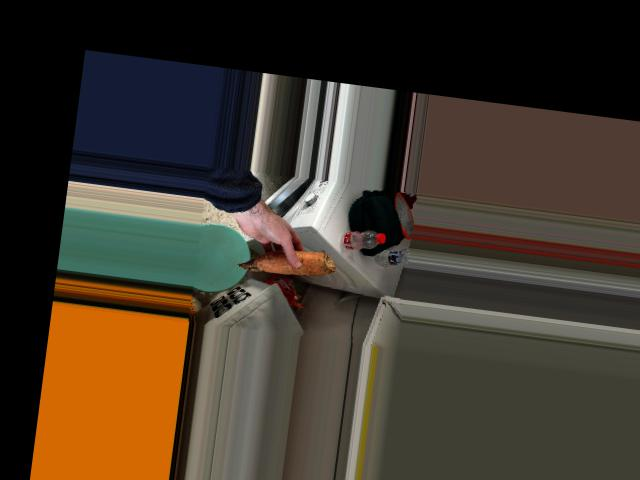sweet_potato: (237, 241, 333, 288)
